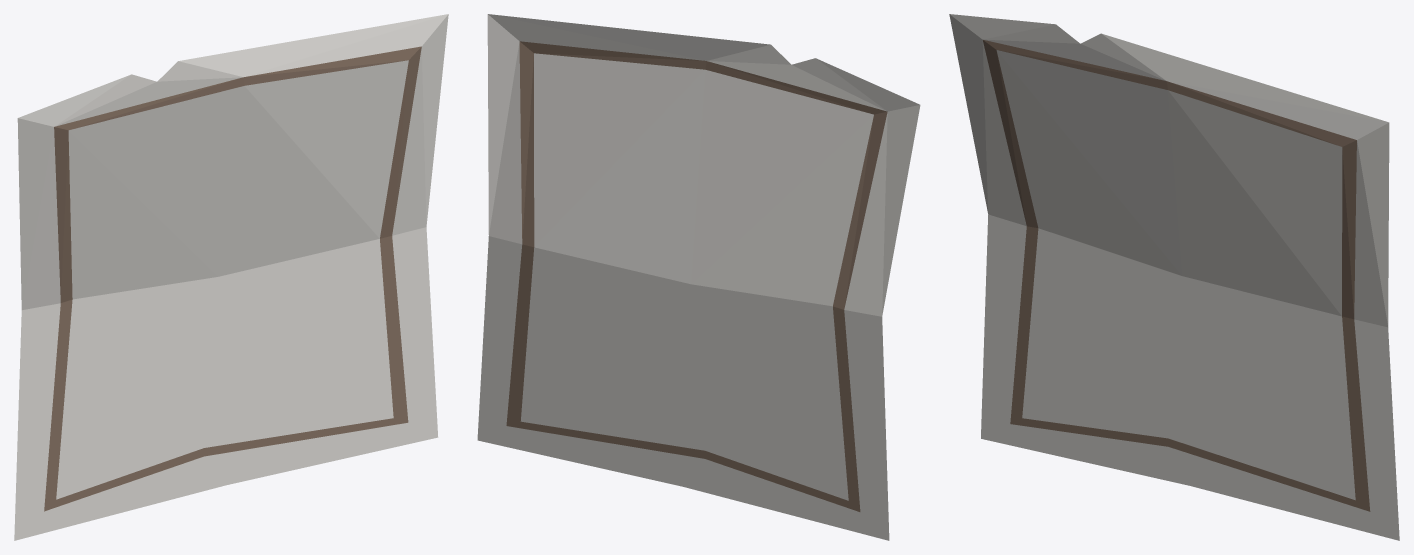
The model's file is SFHW_Paper_001.fbx.
3 renders of one model, left to right at view 1: azimuth 30°, elevation 25°; view 2: azimuth 150°, elevation 25°; view 3: azimuth 330°, elevation 25°, orthographic. The views are drawn at different scales.
Parts seen in each view (by area): view 1: SFHW_Paper_001; view 2: SFHW_Paper_001; view 3: SFHW_Paper_001.
Part boxes in pixels (bbox=[...]): SFHW_Paper_001: bbox=[14, 14, 448, 540]; SFHW_Paper_001: bbox=[477, 14, 920, 540]; SFHW_Paper_001: bbox=[949, 14, 1399, 540].
Size of the model in its own units: 6.81 by 6.84 by 0.5694.
